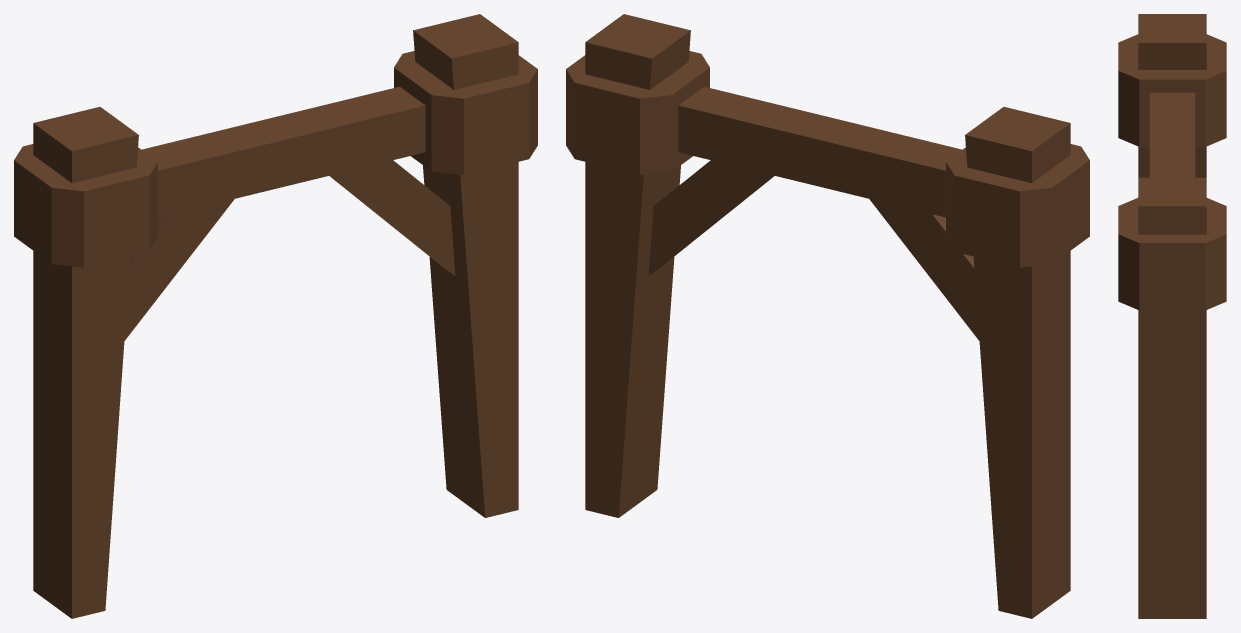
File: kenney_mini-dungeon__wood-support__cave.fbx
3 views of the same model, side by side, from view 1: azimuth 30°, elevation 25°; view 2: azimuth 150°, elevation 25°; view 3: azimuth 270°, elevation 25° (orthographic). The views are drawn at different scales.
Parts seen in each view (by area): view 1: kenney_mini-dungeon__wood-support__cave_wood; view 2: kenney_mini-dungeon__wood-support__cave_wood; view 3: kenney_mini-dungeon__wood-support__cave_wood.
Boxes of the visible parts, bbox=[...] form: kenney_mini-dungeon__wood-support__cave_wood: bbox=[14, 14, 537, 618]; kenney_mini-dungeon__wood-support__cave_wood: bbox=[566, 14, 1089, 618]; kenney_mini-dungeon__wood-support__cave_wood: bbox=[1118, 14, 1226, 618].
Size of the model in its own units: 3.89 by 3.57 by 0.8502.
1 material, 1 textured.
